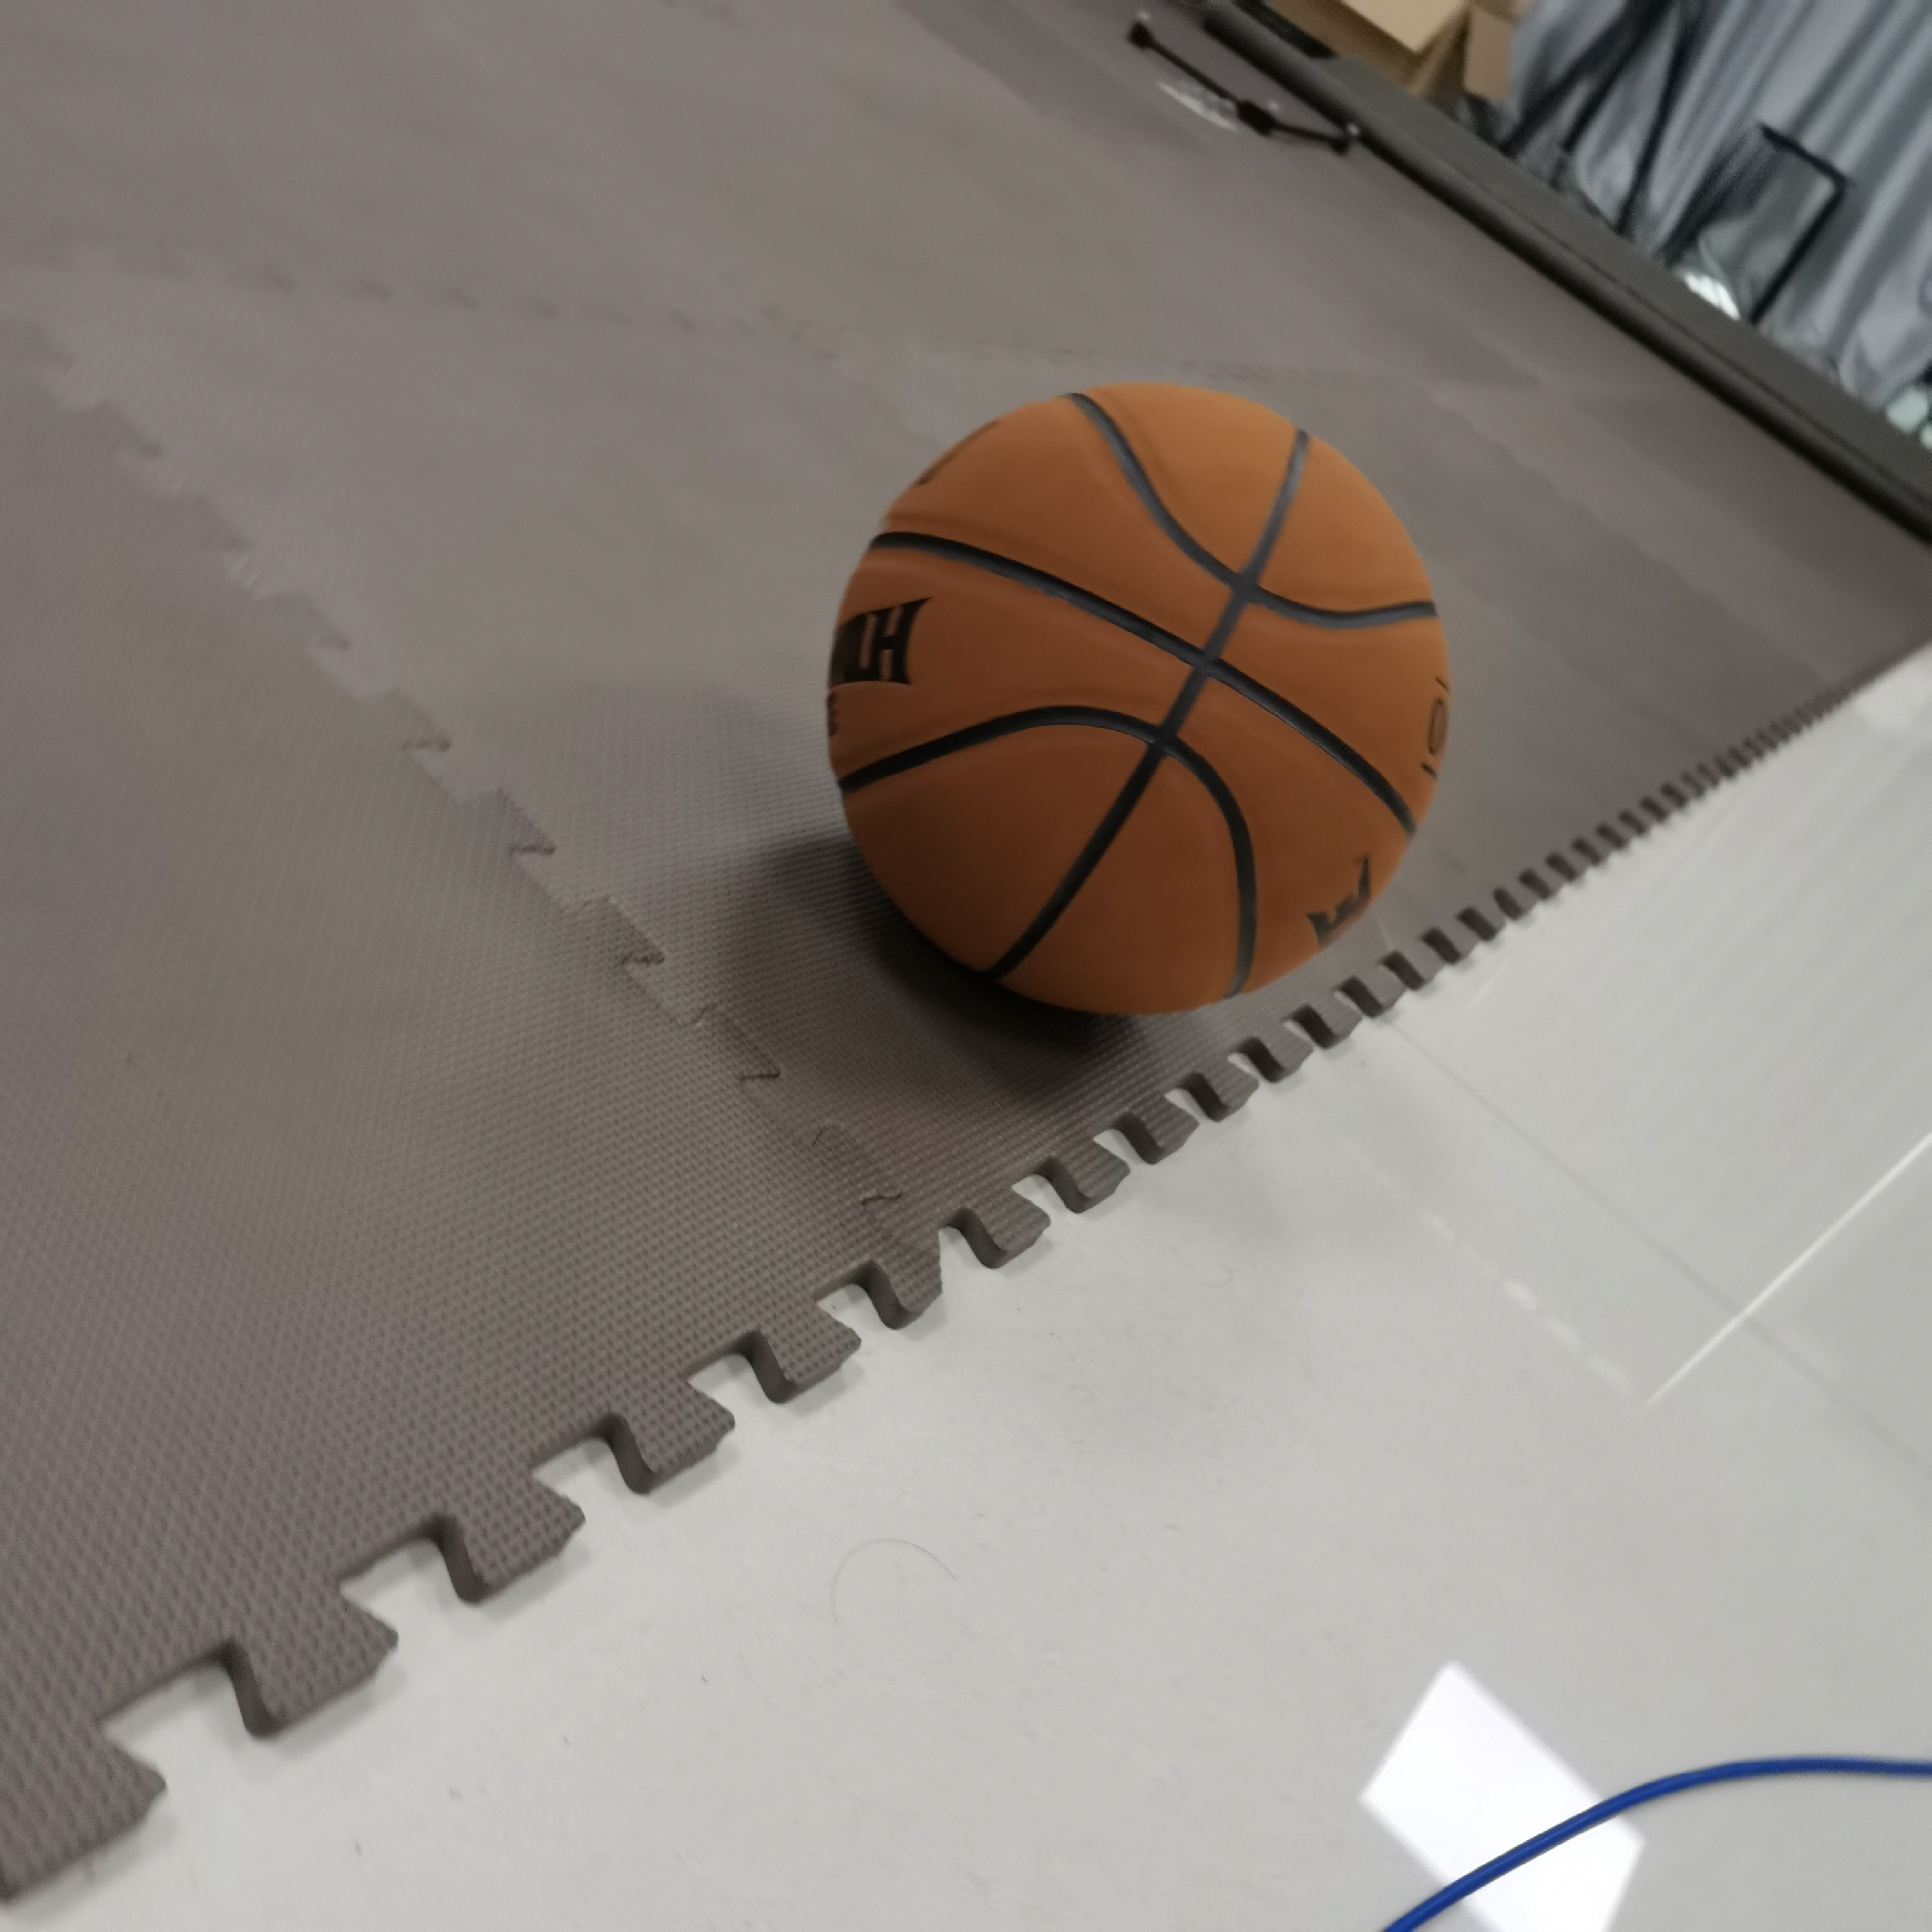basketball: (830, 387, 1453, 1014)
